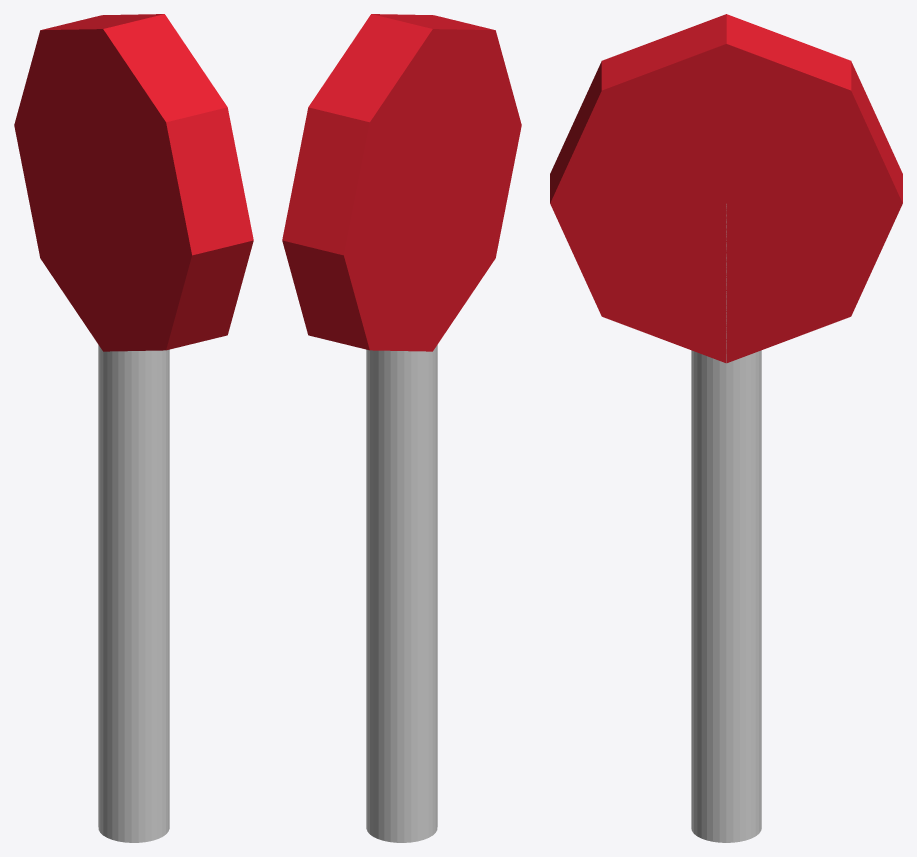
Rendered from StopSign.fbx.
3 renders of one model, left to right at view 1: azimuth 30°, elevation 25°; view 2: azimuth 150°, elevation 25°; view 3: azimuth 270°, elevation 25°, orthographic.
Visible parts, largest first — view 1: Cylinder; view 2: Cylinder; view 3: Cylinder.
Part boxes in pixels (bbox=[...]): Cylinder: bbox=[14, 14, 253, 842]; Cylinder: bbox=[282, 14, 521, 842]; Cylinder: bbox=[550, 14, 902, 842].
Size of the model in its own units: 10 by 125 by 50.
